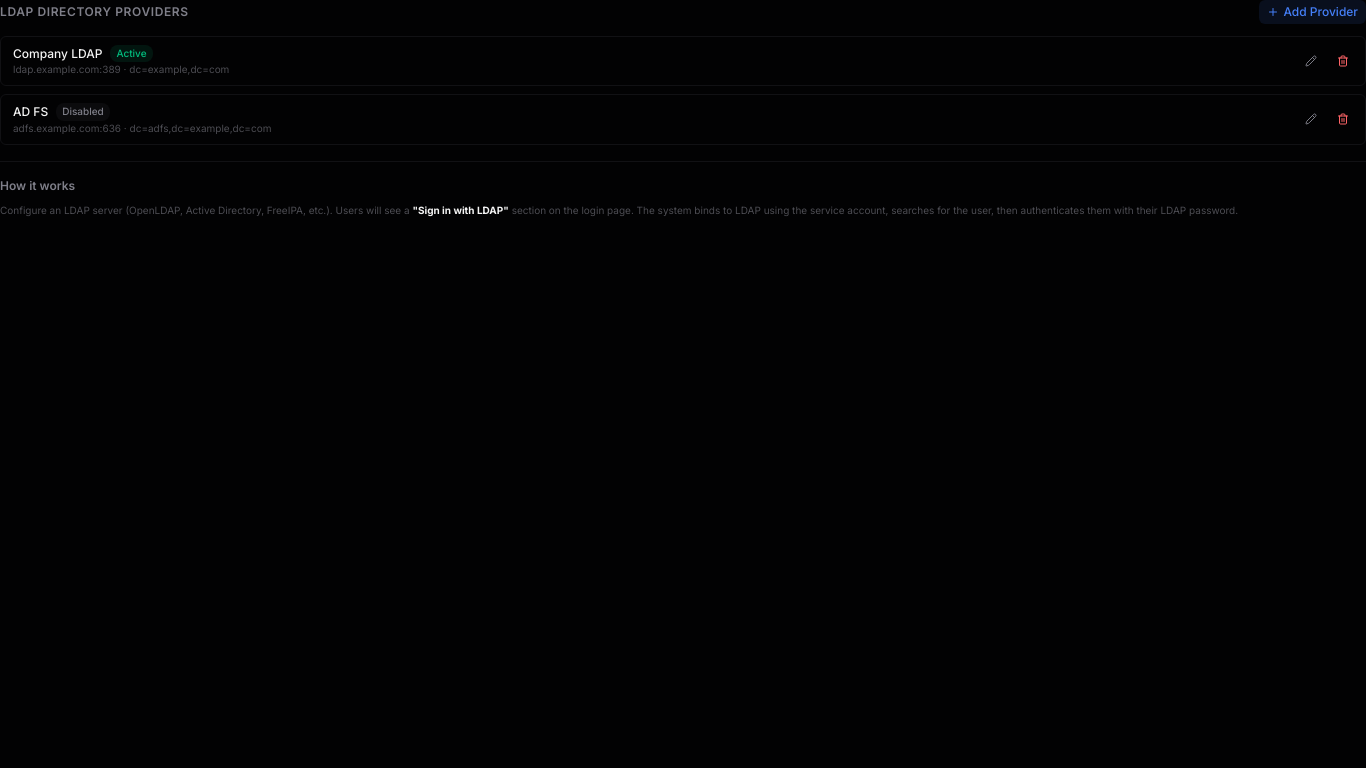
LdapSettings › closes dialog on Cancel
Expected: the text "Company LDAP" is shown, [13, 46, 102, 61]
Click the button "Add Provider". click: (1313, 12)
box: [1259, 0, 1365, 24]
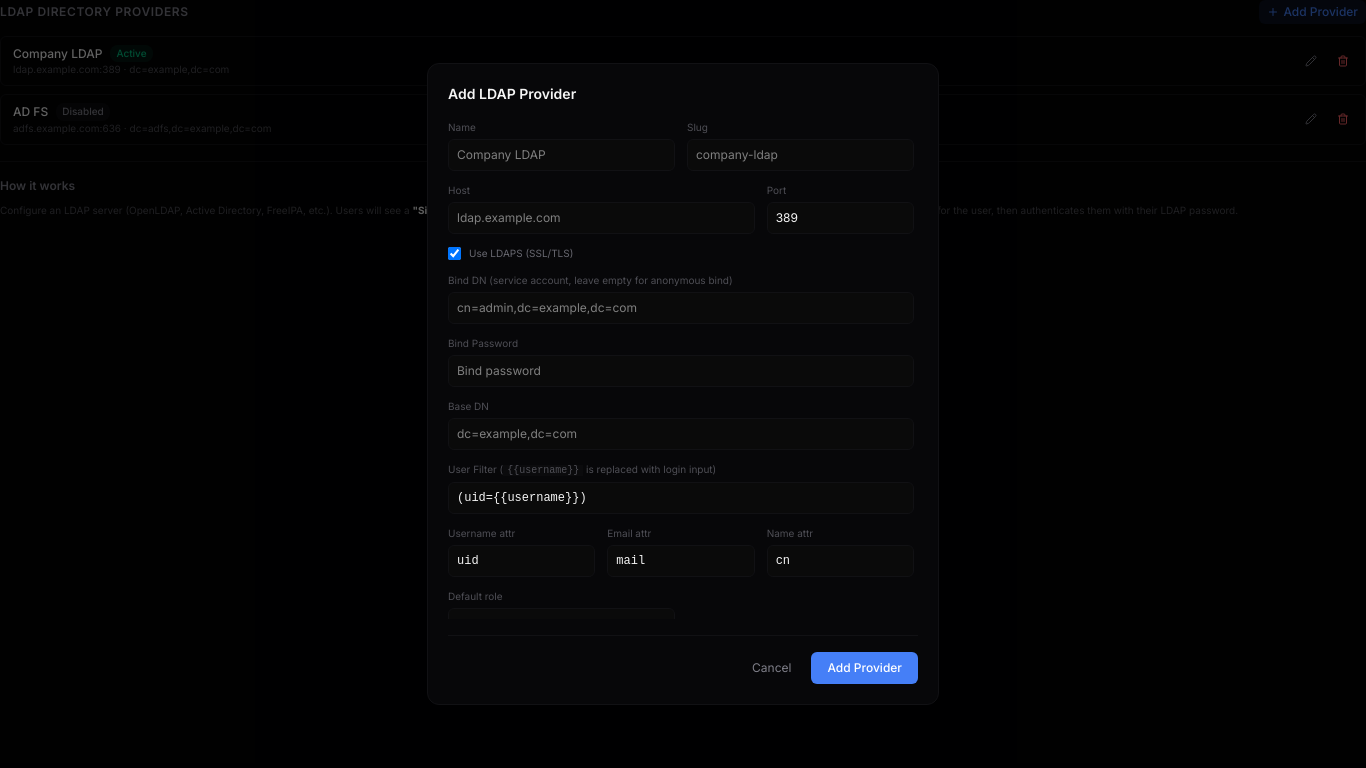
Result: the heading "Add LDAP Provider" is shown at [448, 85, 576, 102]
Click the button "Cancel". click: (772, 668)
box: [740, 652, 803, 684]
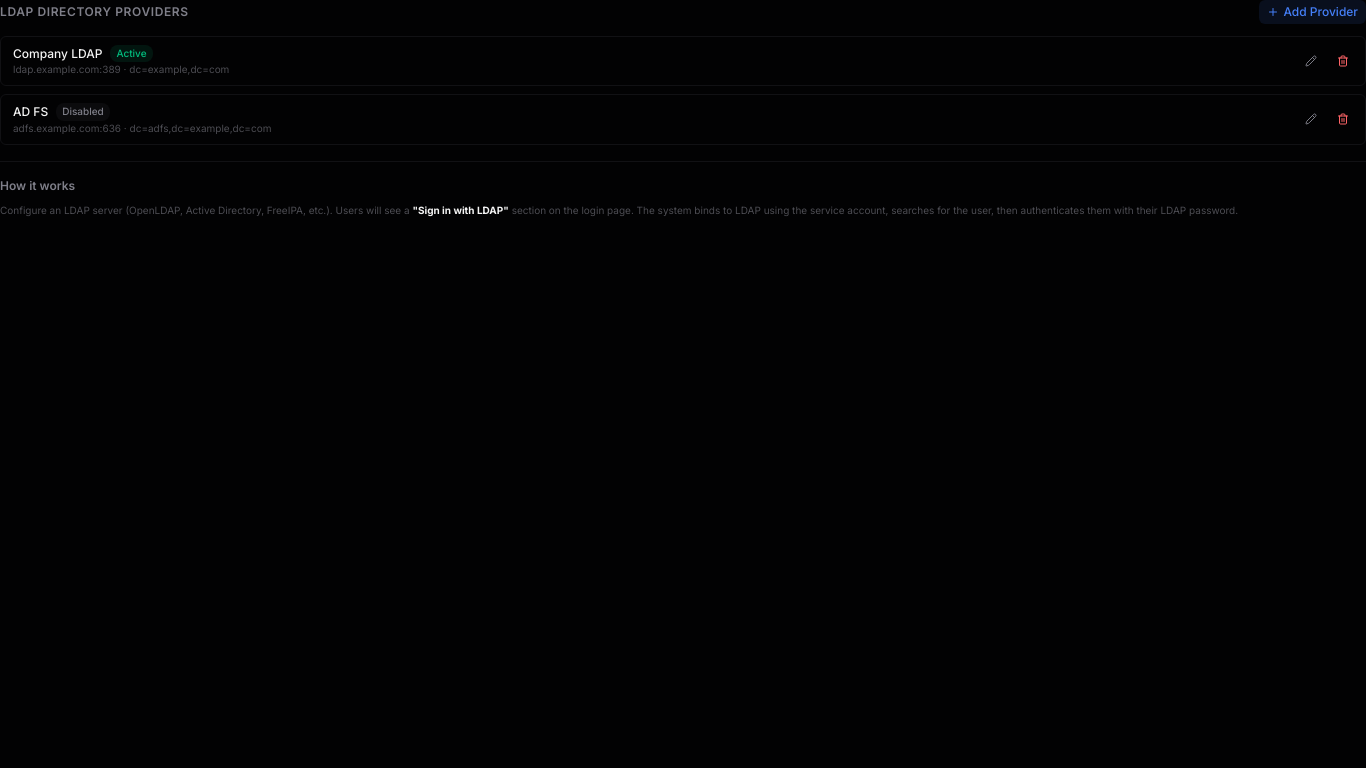
Result: the heading "Add LDAP Provider" is gone
